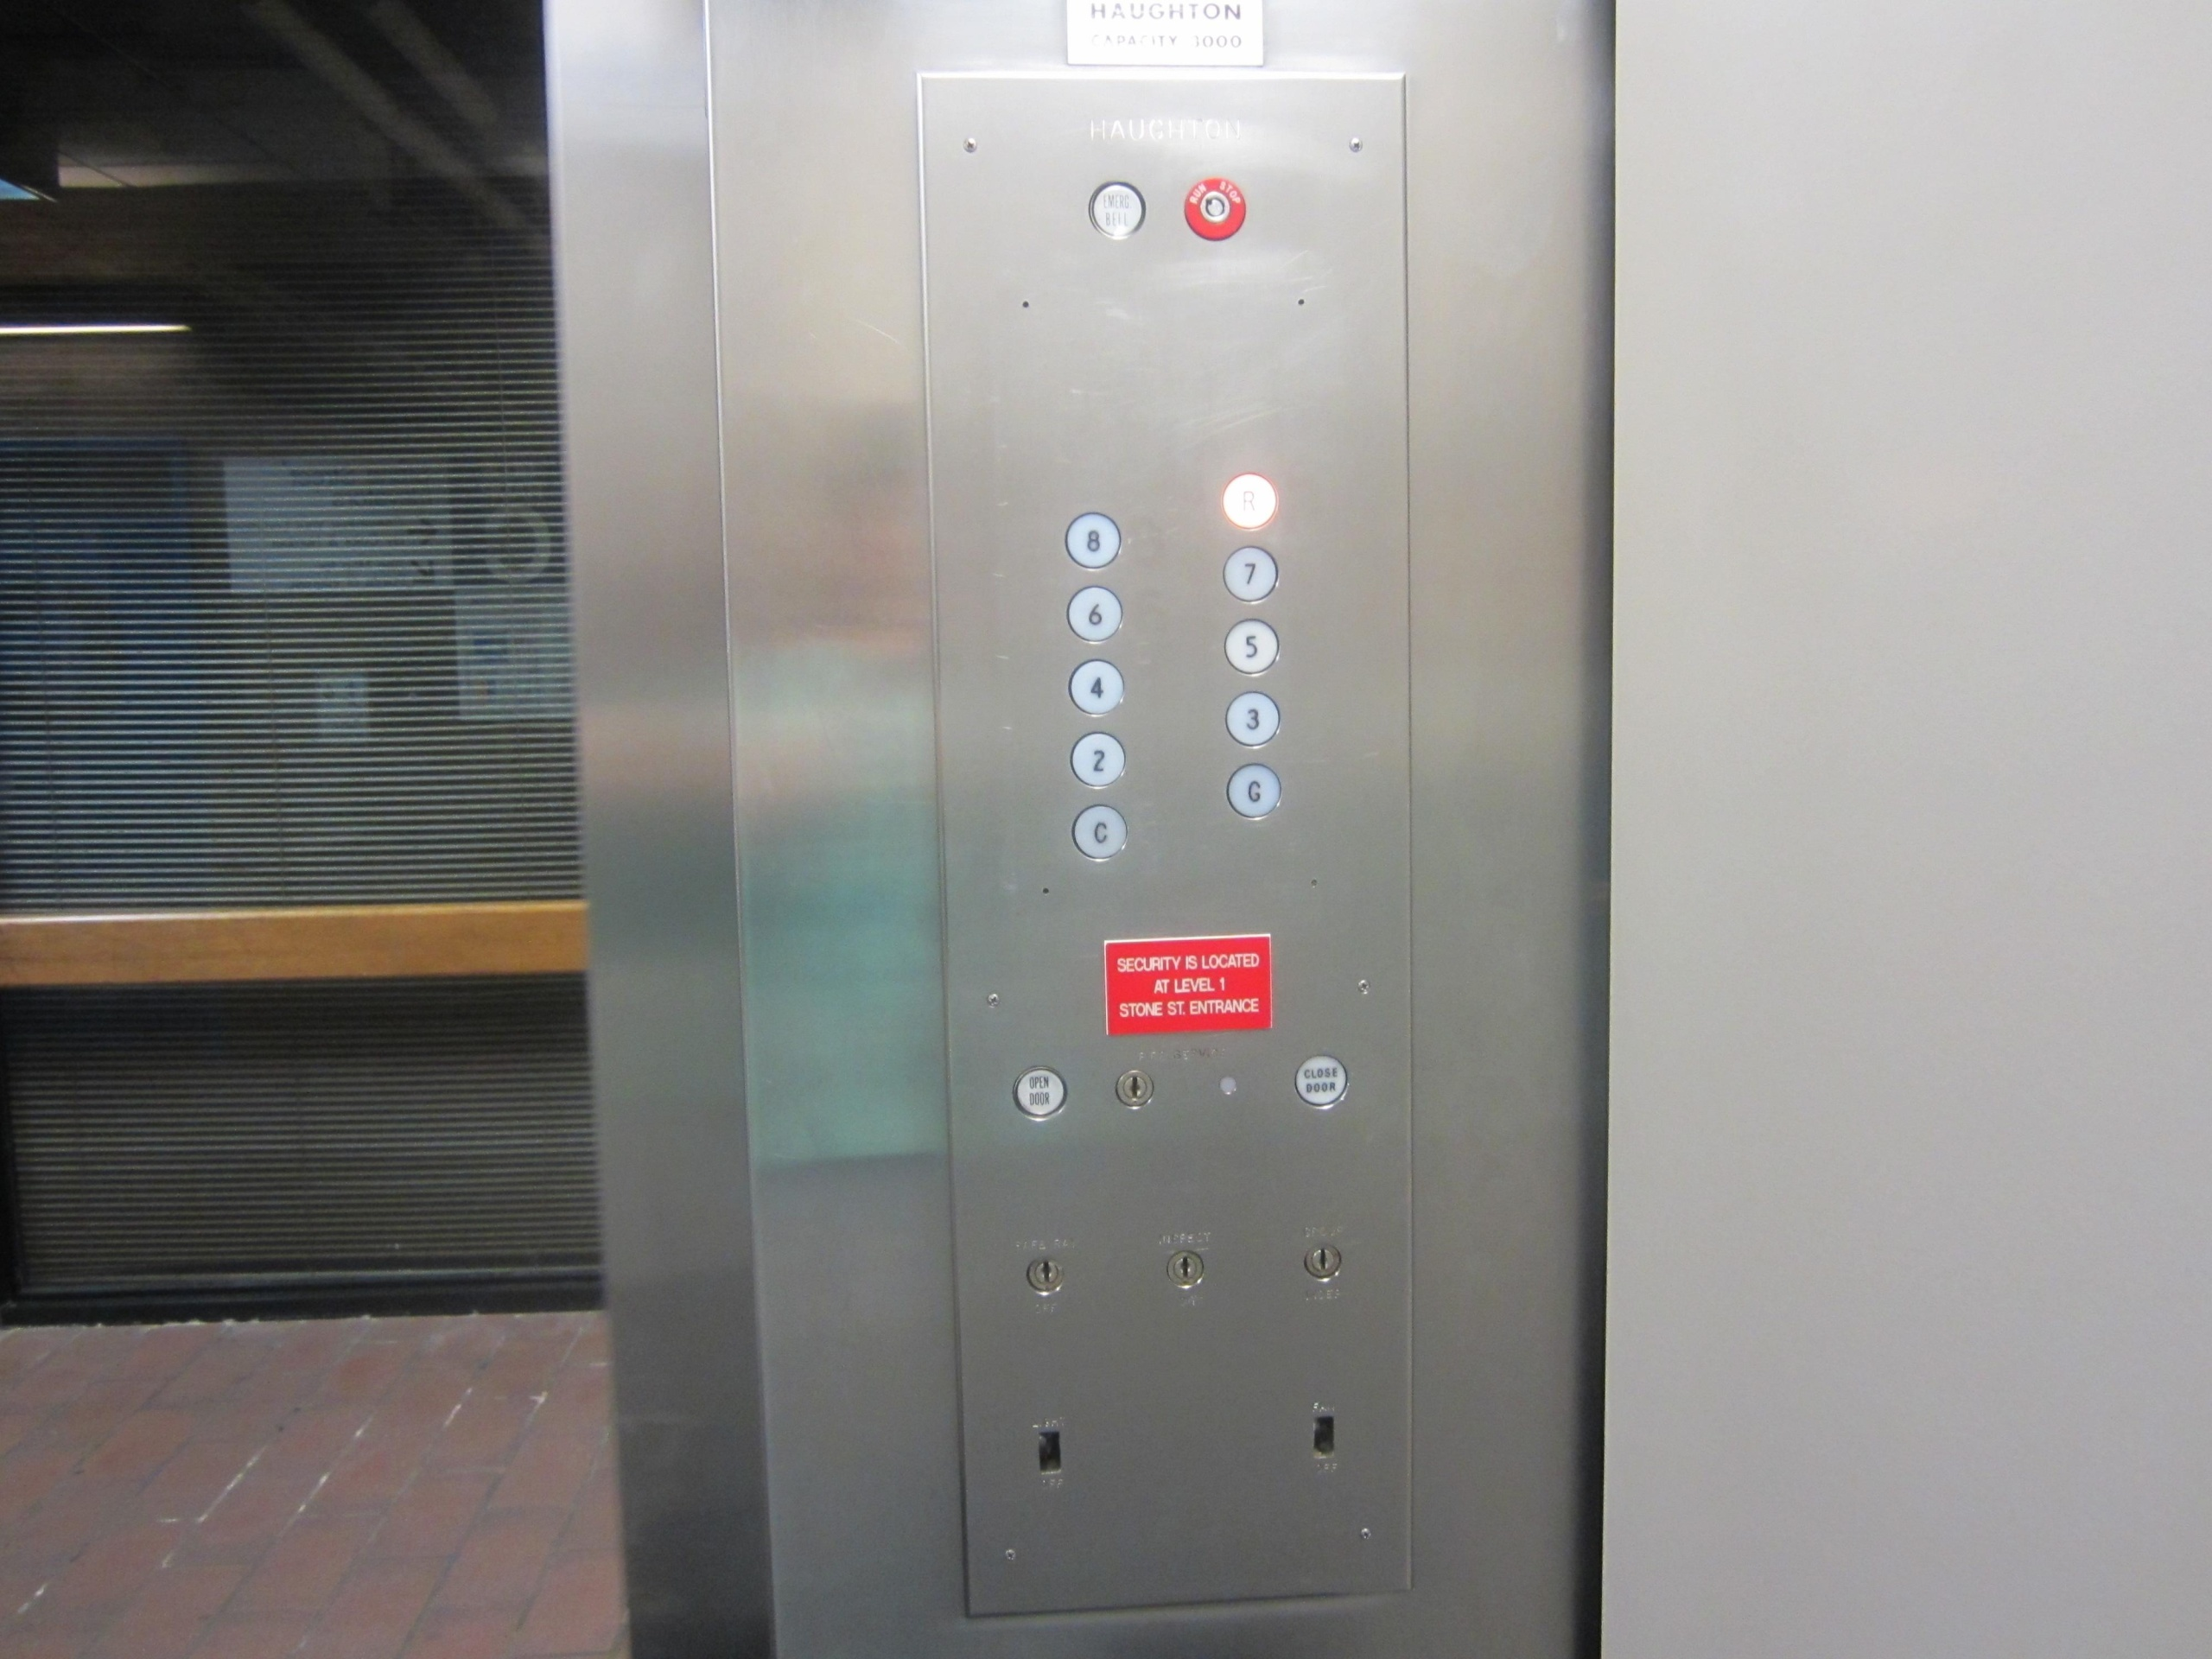2: (1068, 728, 1129, 791)
3: (1224, 690, 1284, 749)
4: (1064, 653, 1127, 720)
5: (1221, 617, 1280, 680)
6: (1064, 584, 1123, 645)
7: (1221, 542, 1280, 606)
8: (1062, 509, 1123, 573)
C: (1071, 802, 1129, 863)
G: (1223, 760, 1284, 823)
R: (1219, 471, 1280, 533)
keyhole: (1183, 178, 1245, 240), (1021, 1253, 1068, 1298), (1162, 1246, 1209, 1291), (1111, 1065, 1157, 1110), (1299, 1239, 1345, 1284)
text_close door: (1292, 1051, 1352, 1112)
text_emerg bell: (1089, 181, 1148, 240)
text_open door: (1012, 1065, 1069, 1126)
